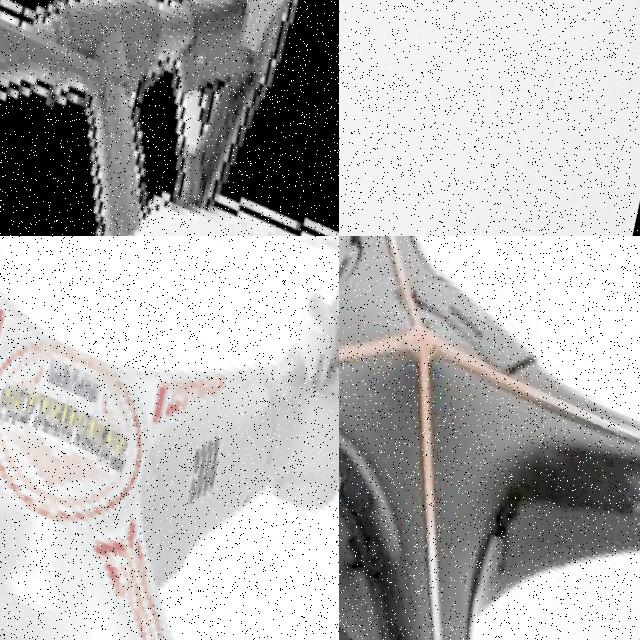drone: (0, 236, 339, 640), (339, 236, 640, 640), (0, 0, 339, 236)
